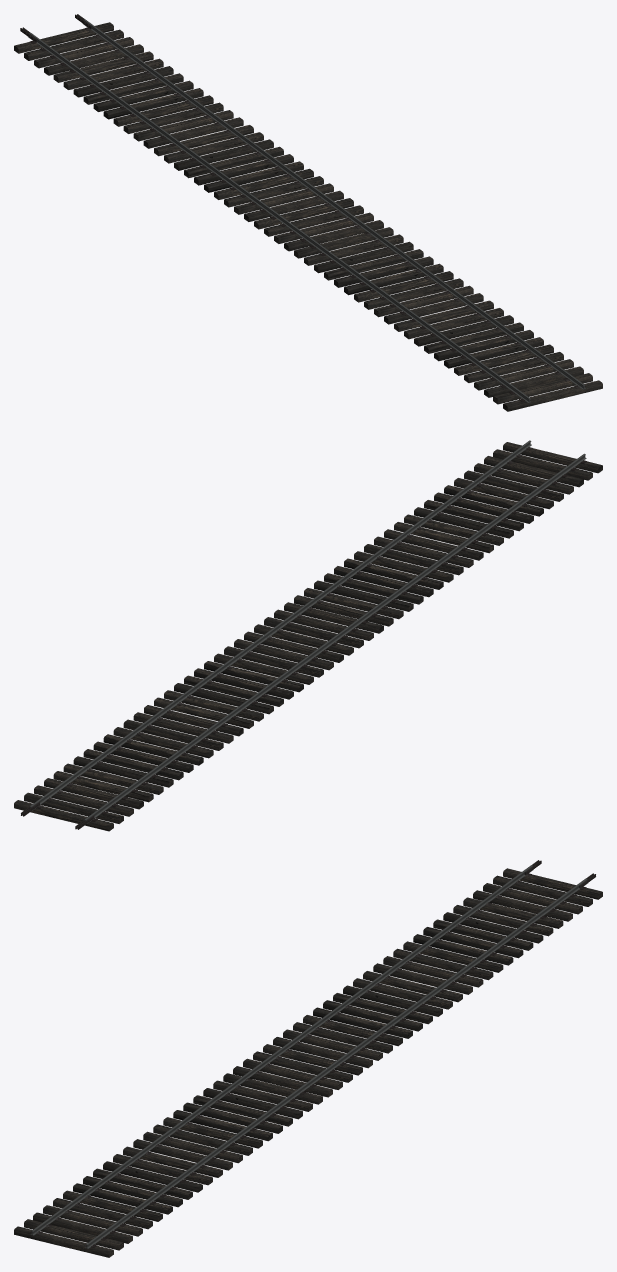
Rendered from rails (1).glb.
3 views of the same model, one above another, from view 1: azimuth 30°, elevation 25°; view 2: azimuth 150°, elevation 25°; view 3: azimuth 330°, elevation 25° (orthographic).
Visible parts, largest first — view 1: sleepers_sleeper_mat_0, rails_steel_mat_0, sleepers_Iron_mat_0; view 2: sleepers_sleeper_mat_0, rails_steel_mat_0, sleepers_Iron_mat_0; view 3: sleepers_sleeper_mat_0, rails_steel_mat_0, sleepers_Iron_mat_0.
Part boxes in pixels (x1,y1,x2,y2): sleepers_sleeper_mat_0: (14,22,602,411); rails_steel_mat_0: (28,19,585,402); sleepers_Iron_mat_0: (29,27,586,402); sleepers_sleeper_mat_0: (14,442,602,831); rails_steel_mat_0: (29,440,586,824); sleepers_Iron_mat_0: (37,447,586,821); sleepers_sleeper_mat_0: (14,868,602,1257); rails_steel_mat_0: (30,865,587,1248); sleepers_Iron_mat_0: (30,873,586,1247).
Bounding box in the file's own units: 2.75 × 0.2731 × 25.4.
Materials: 3 (3 with a texture image).
